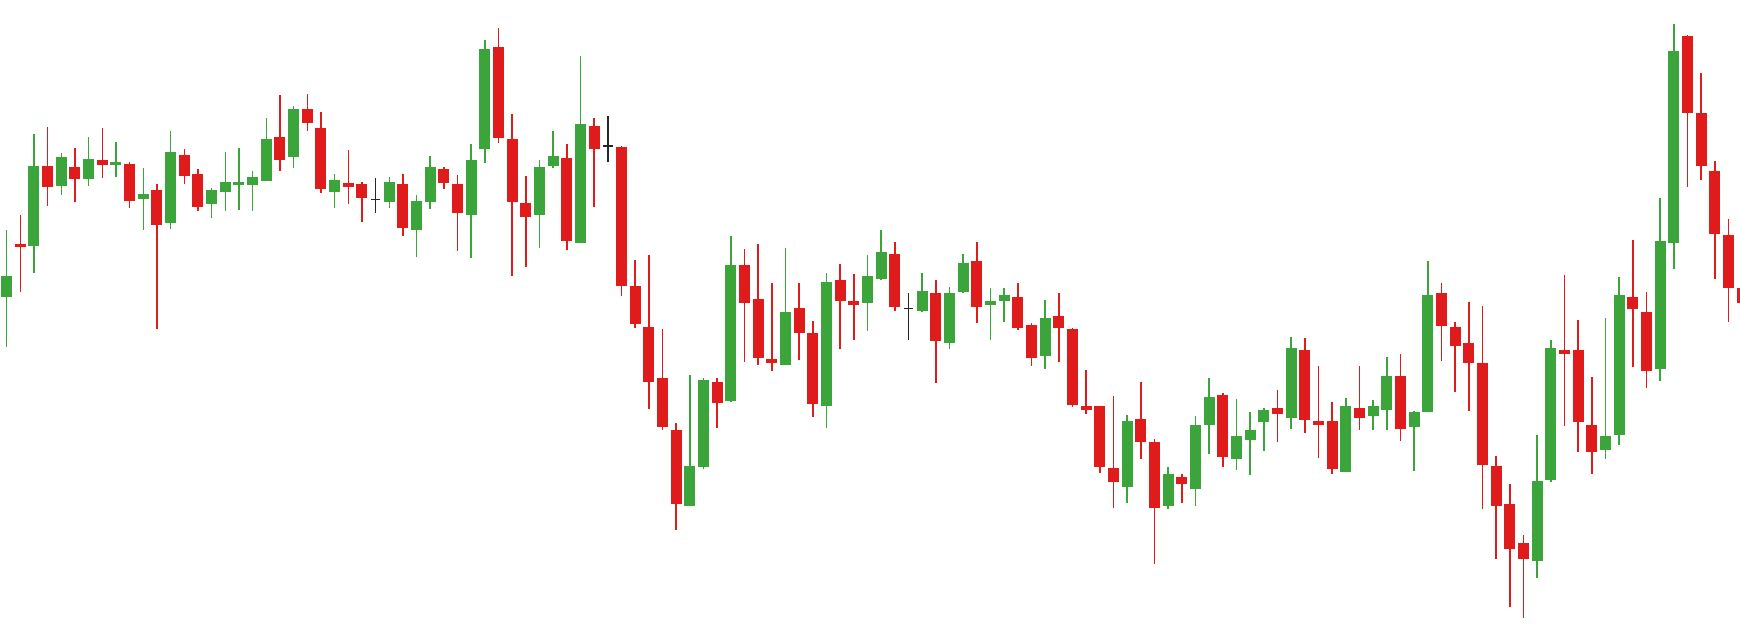buy: (1145, 399, 1530, 631)
sell: (273, 30, 506, 205)
